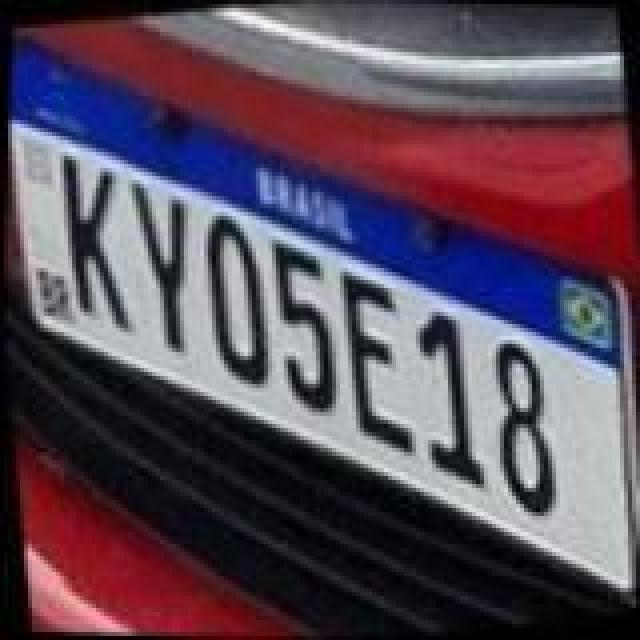1: (406, 304, 490, 500)
5: (326, 256, 426, 464), (258, 228, 346, 424)
8: (472, 330, 564, 522)
K: (48, 142, 136, 338)
O: (188, 204, 280, 392)
Y: (118, 172, 210, 360)
